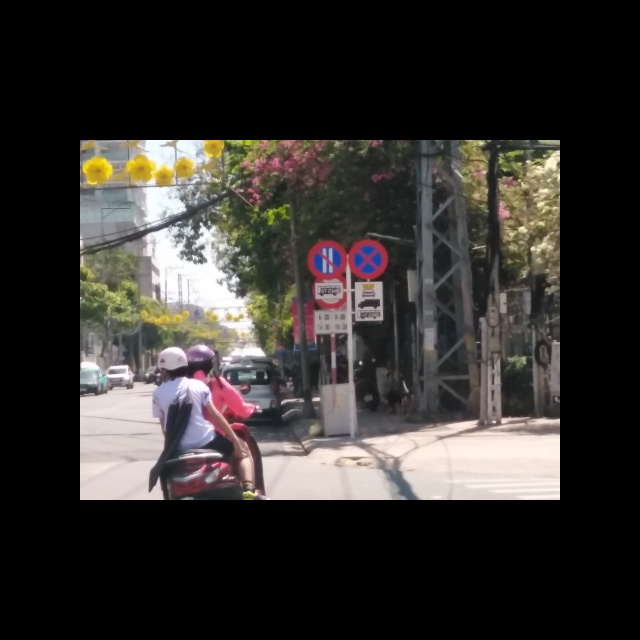Cấm dừng xe và đỗ xe: (347, 238, 388, 278)
Cấm đỗ xe ngày chẵn: (305, 239, 347, 280)
